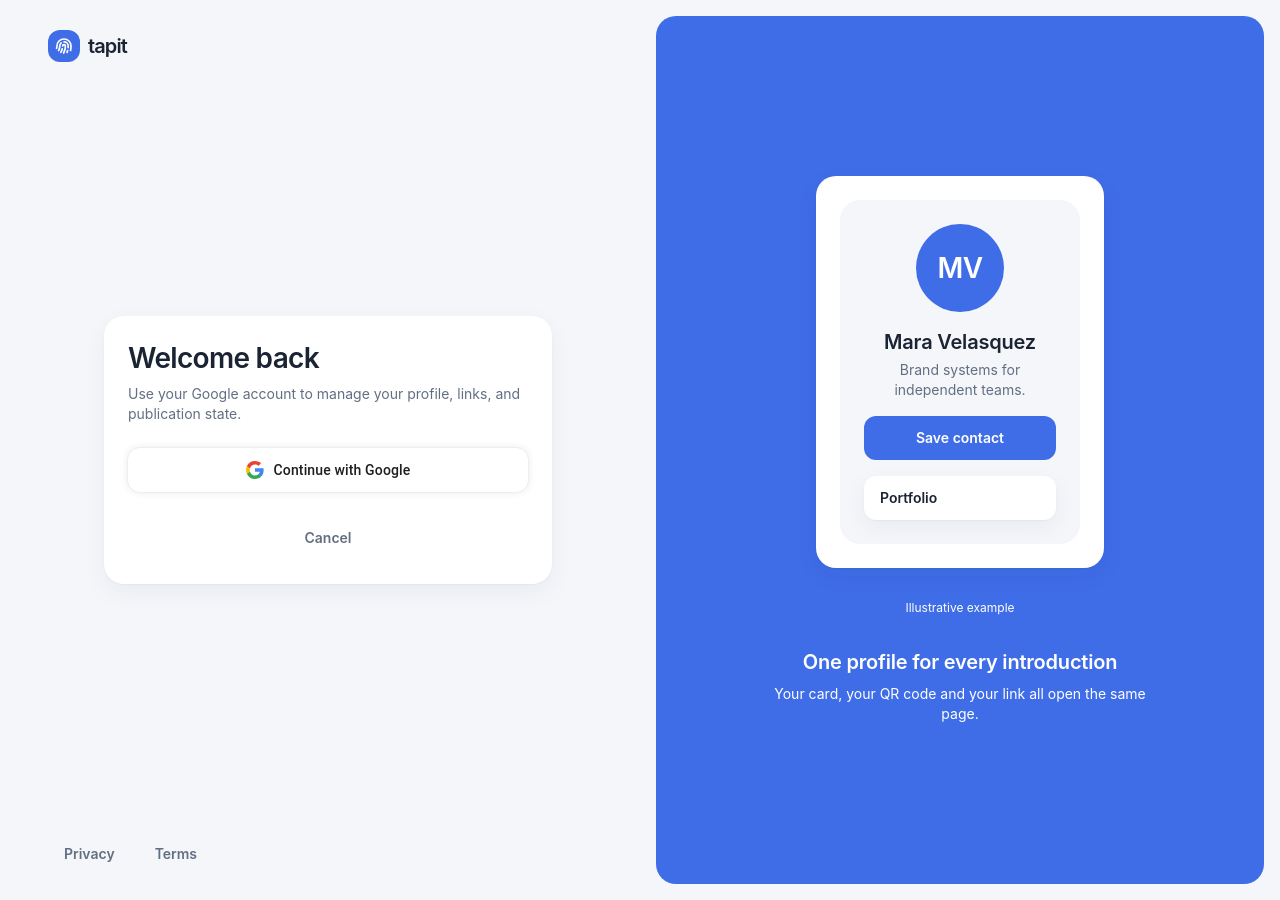
Test case: Google OAuth login › shows generic OAuth rejection copy and restores a retry action
Click the button "Continue with Google" at (328, 470), box [128,448,528,492]
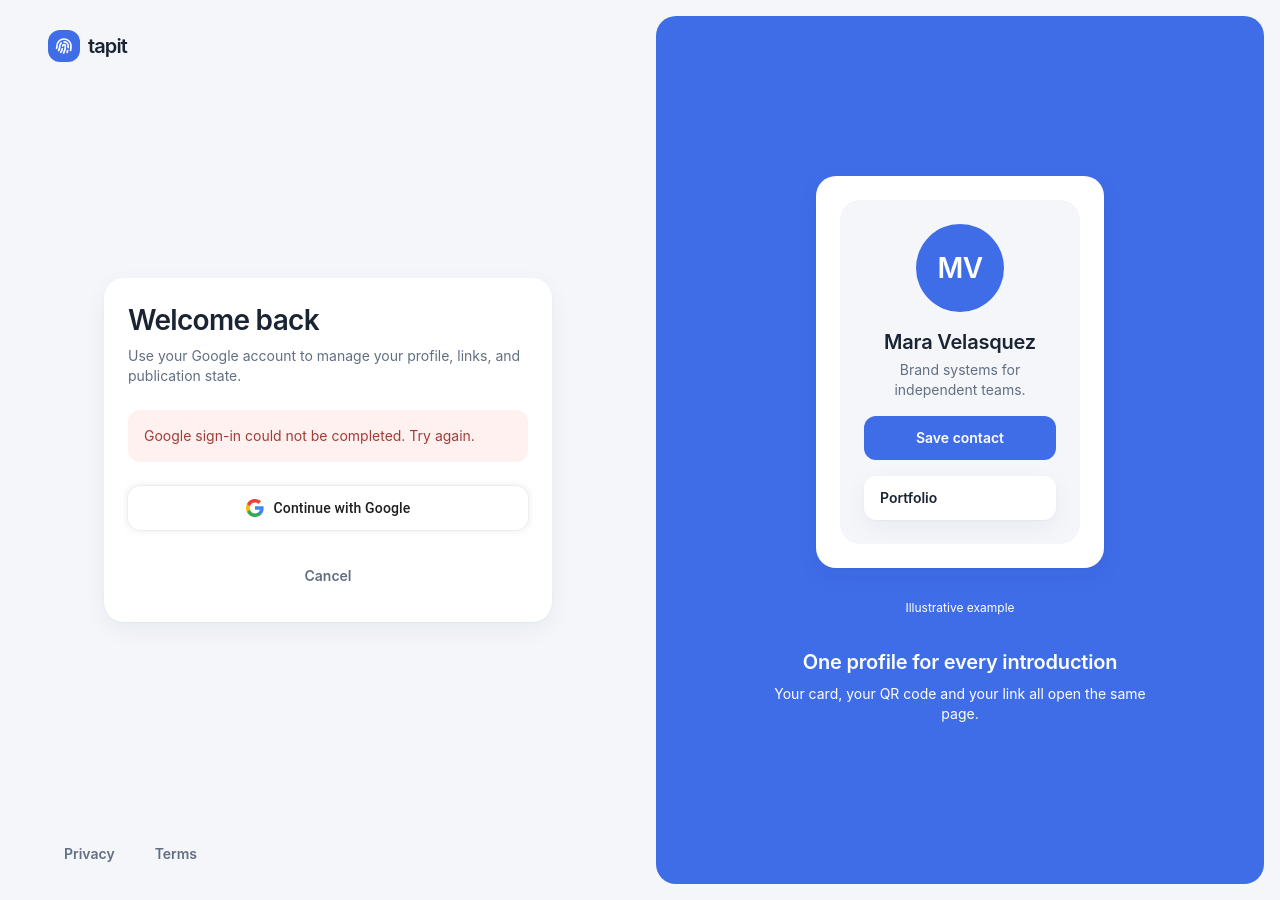
Check: the message does not show "provider_secret", box [128,410,528,462]
Check: the message shows "could not be completed", box [144,427,475,444]
